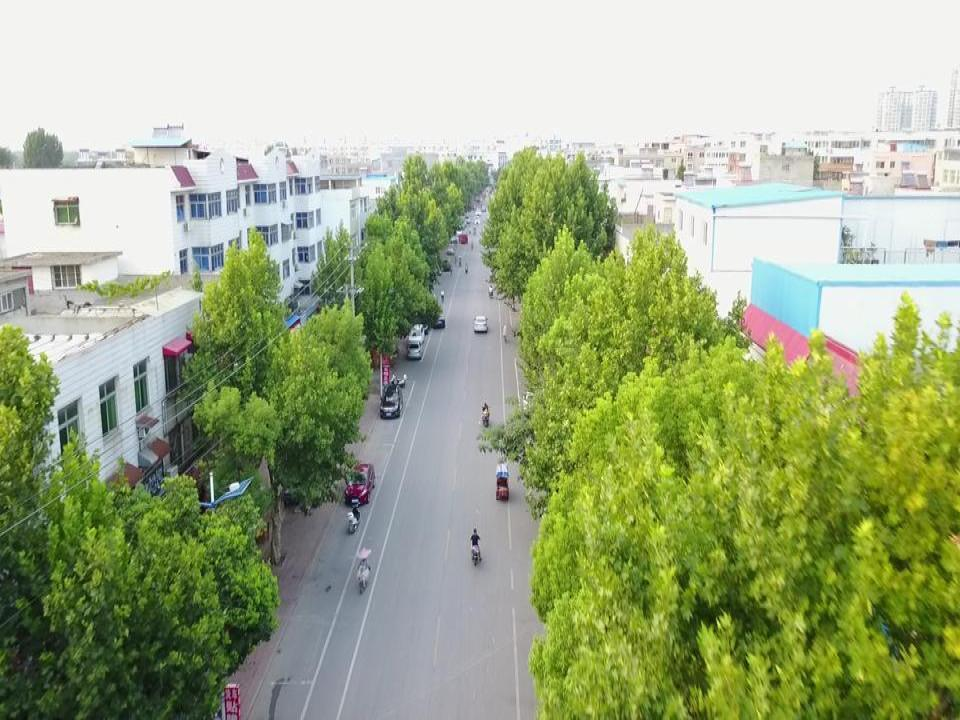bus: (405, 325, 423, 360)
car: (343, 461, 374, 507), (378, 385, 404, 419), (523, 392, 537, 413), (430, 308, 444, 328), (474, 314, 486, 330)
